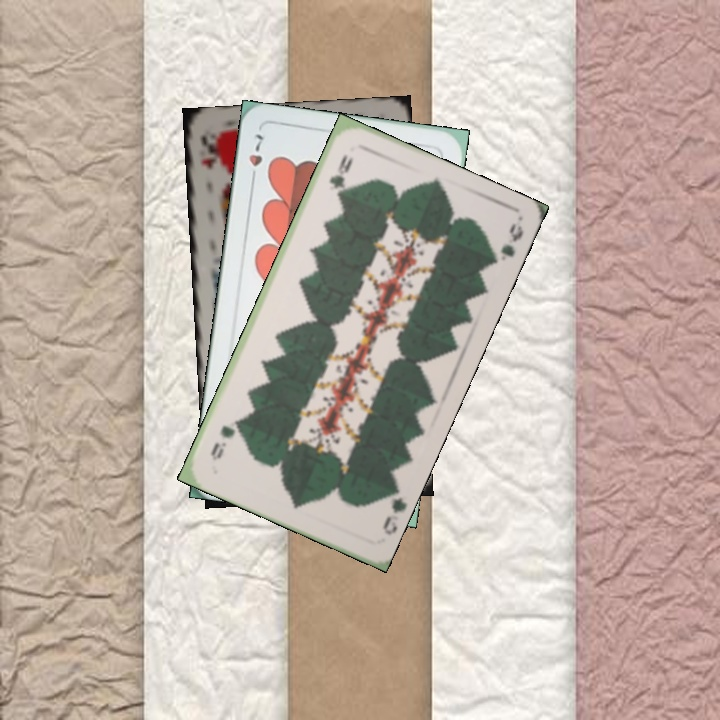G9: (378, 484, 408, 538), (325, 150, 356, 199)
H7: (245, 130, 266, 186)
HK: (196, 132, 219, 172)
